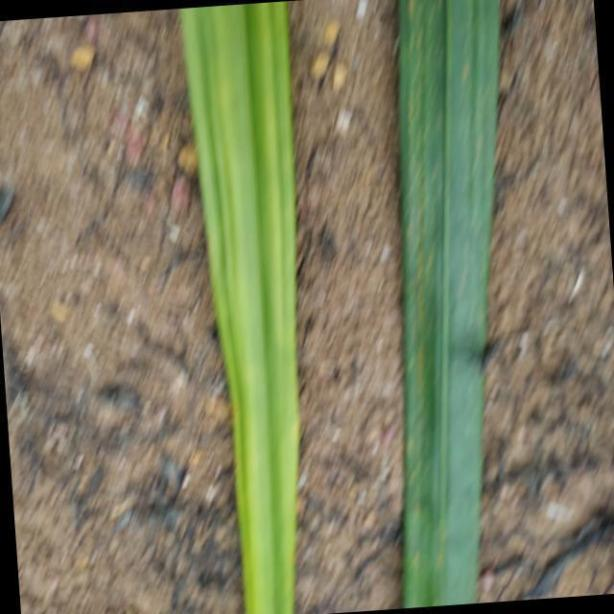nitrogen: (181, 0, 302, 614)
